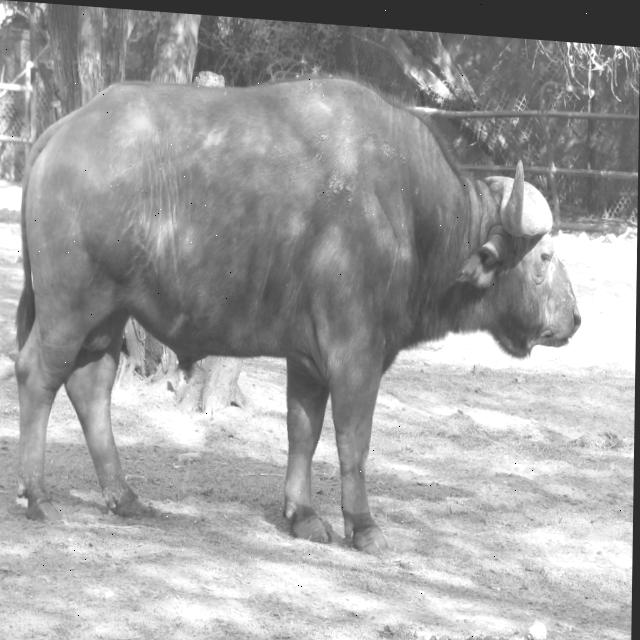Buffalo: (12, 51, 589, 564)
